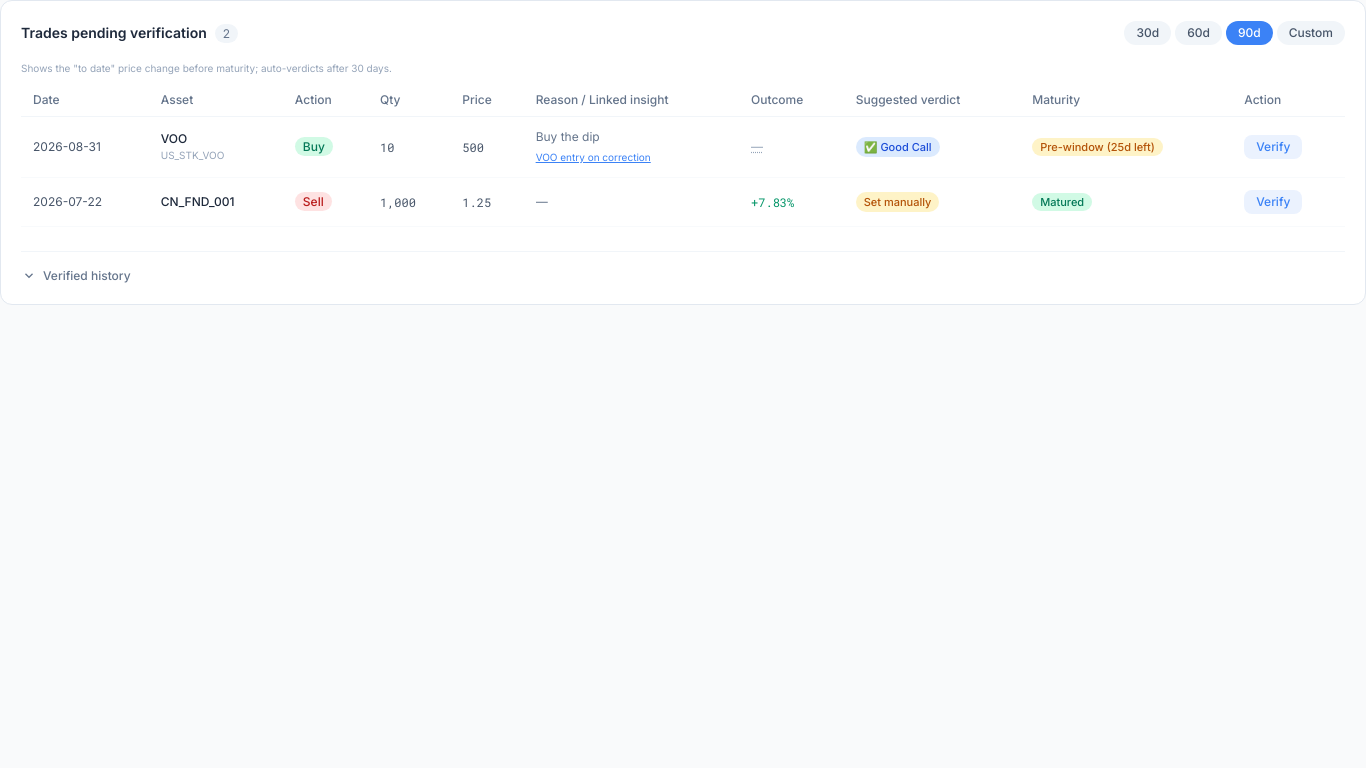
Test: PendingVerificationList › narrative-only submit shows saved-pending toast and trade stays in pending list
# Open the verify modal for RECENT_ITEM (first row)
Click the button "Verify" in the row of "2026-08-31" at (1273,147), box [1244,135,1302,159]
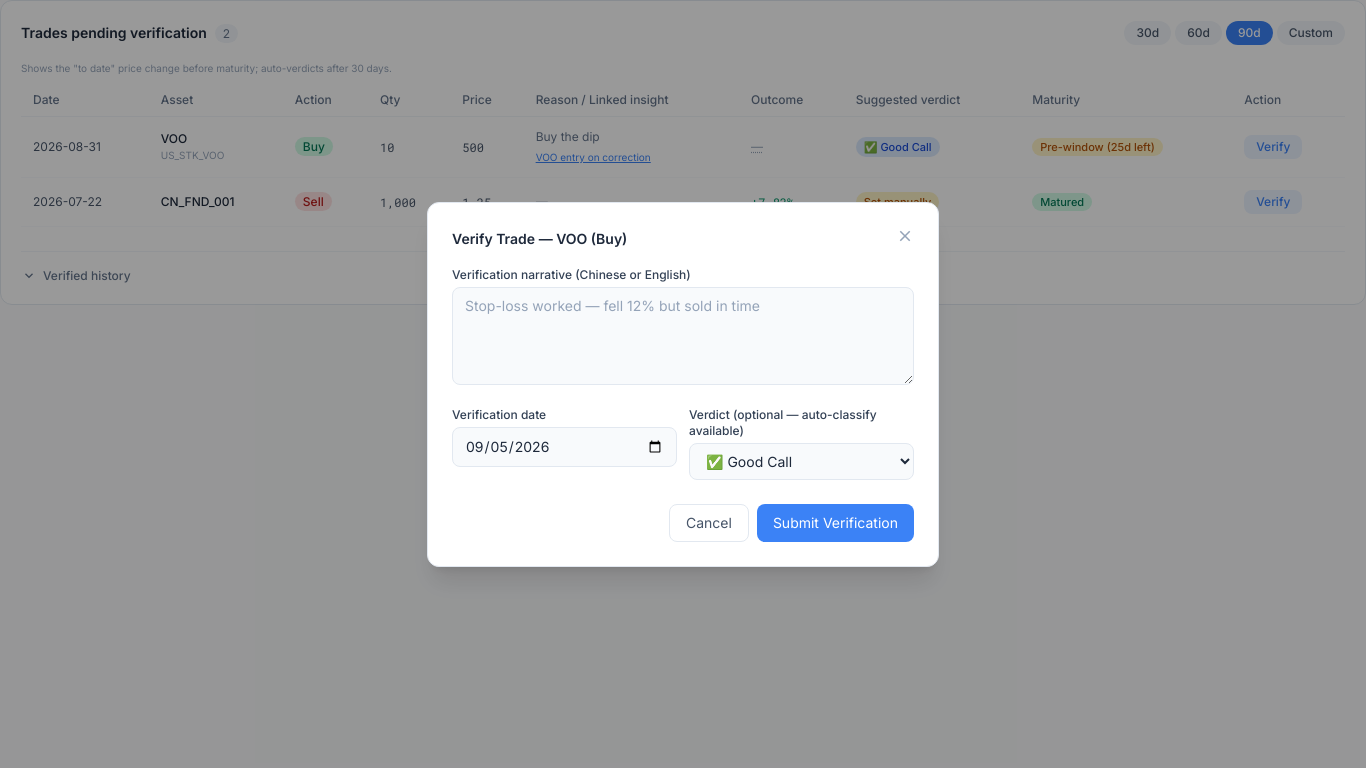
# Clear the suggested verdict so we submit without a verdict
Select "Let backend decide" in the dropdown at (802,461), box [689,442,914,480]
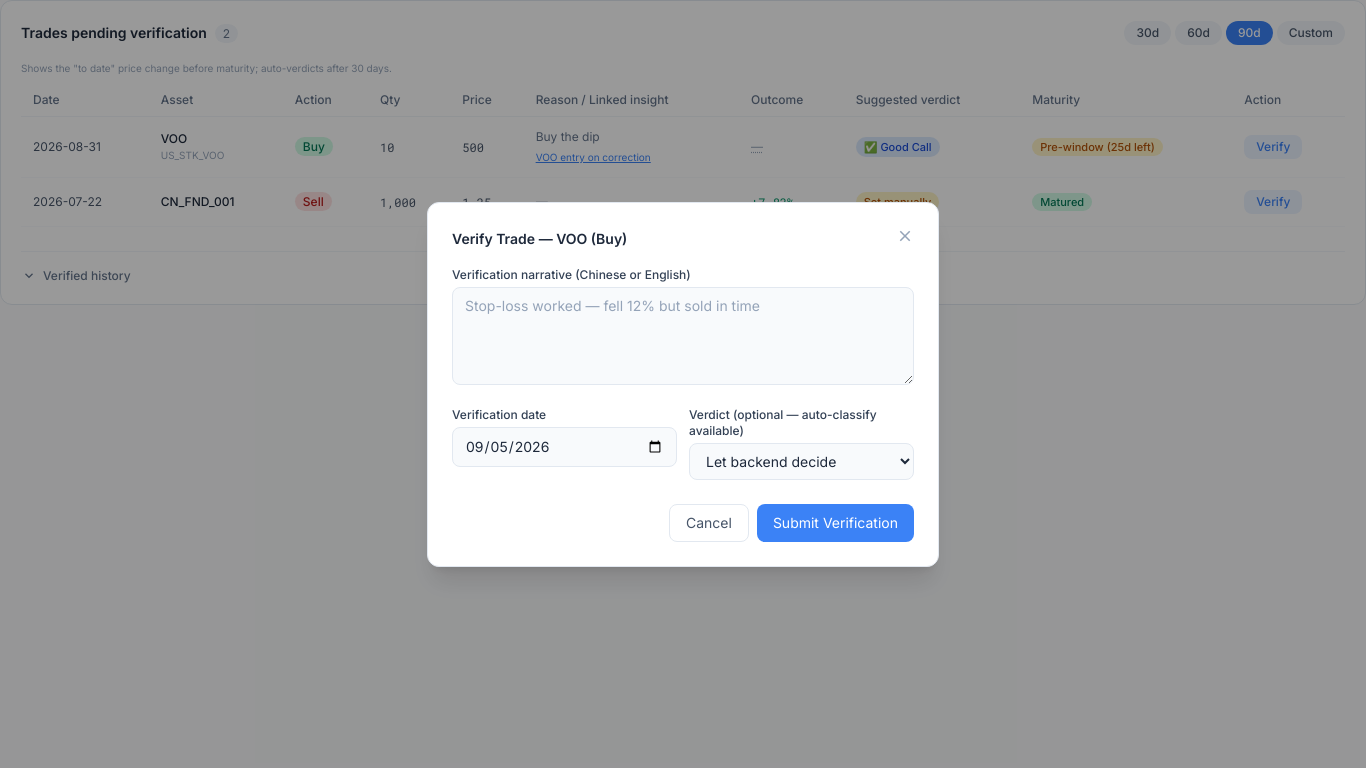
# Add narrative
Type "Bought at dip, holding for now" into the text box with placeholder "Stop-loss worked — fell 12% but sold in time" at (683,336), box [452,286,914,384]
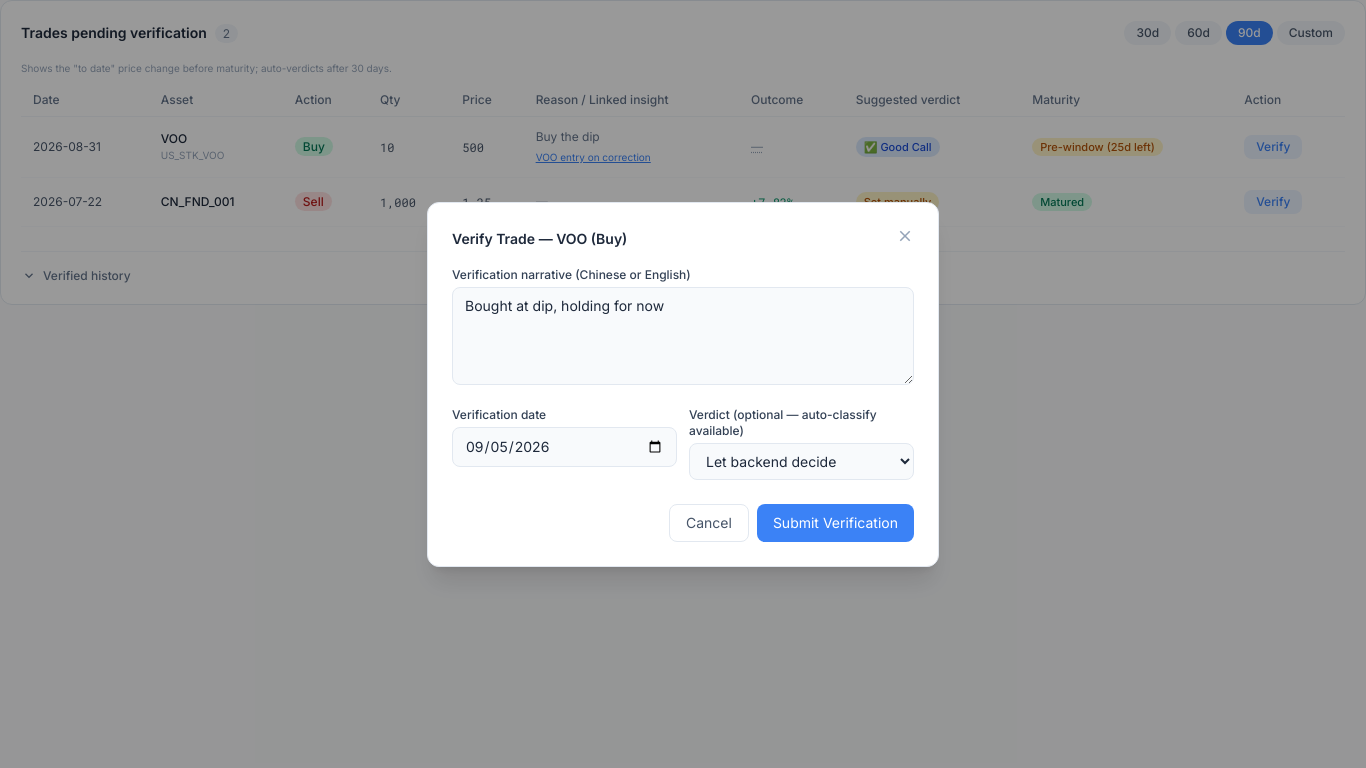
Click the button "Submit Verification" at (835,522), box [757,504,914,542]
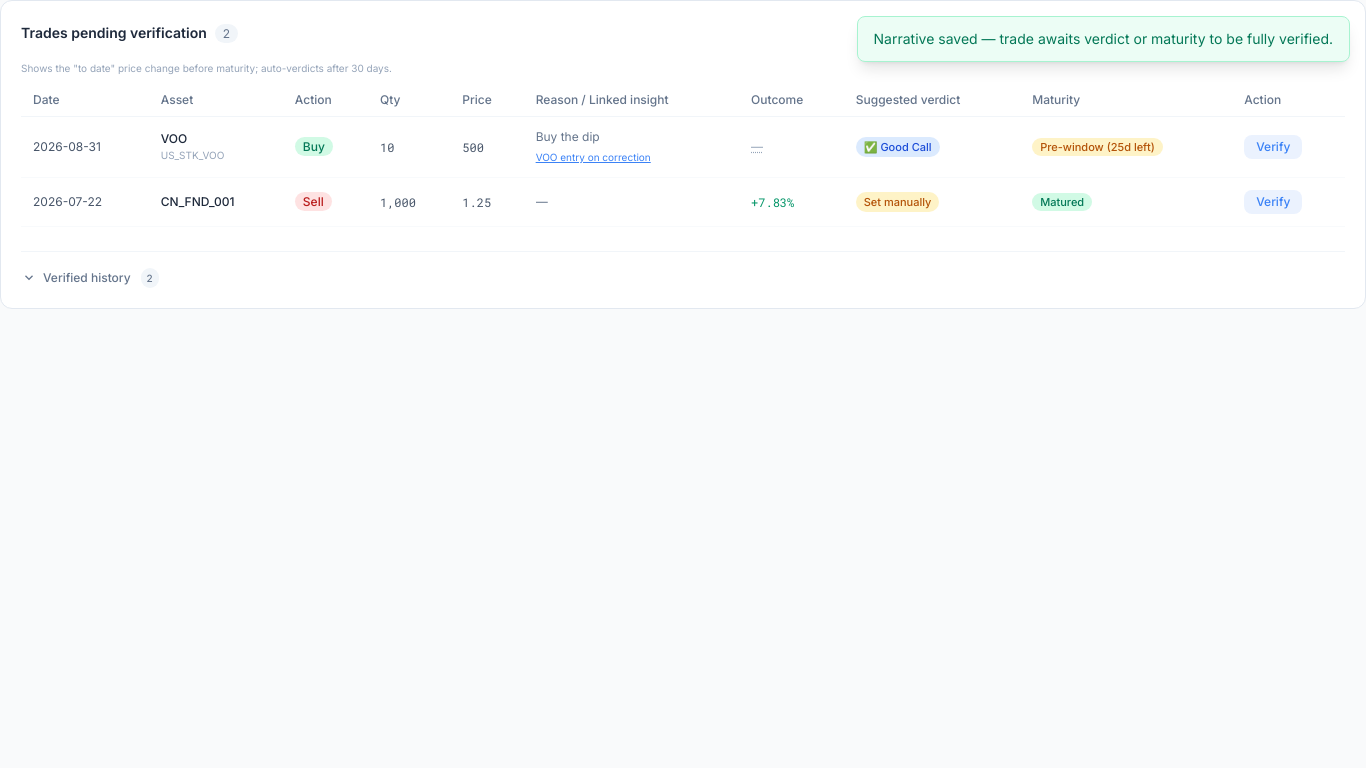
Expected: the text "VOO" is shown, [161,131,187,146]
Expected: the text "Narrative saved — trade awaits verdict or maturity" is shown, [874,30,1333,47]
